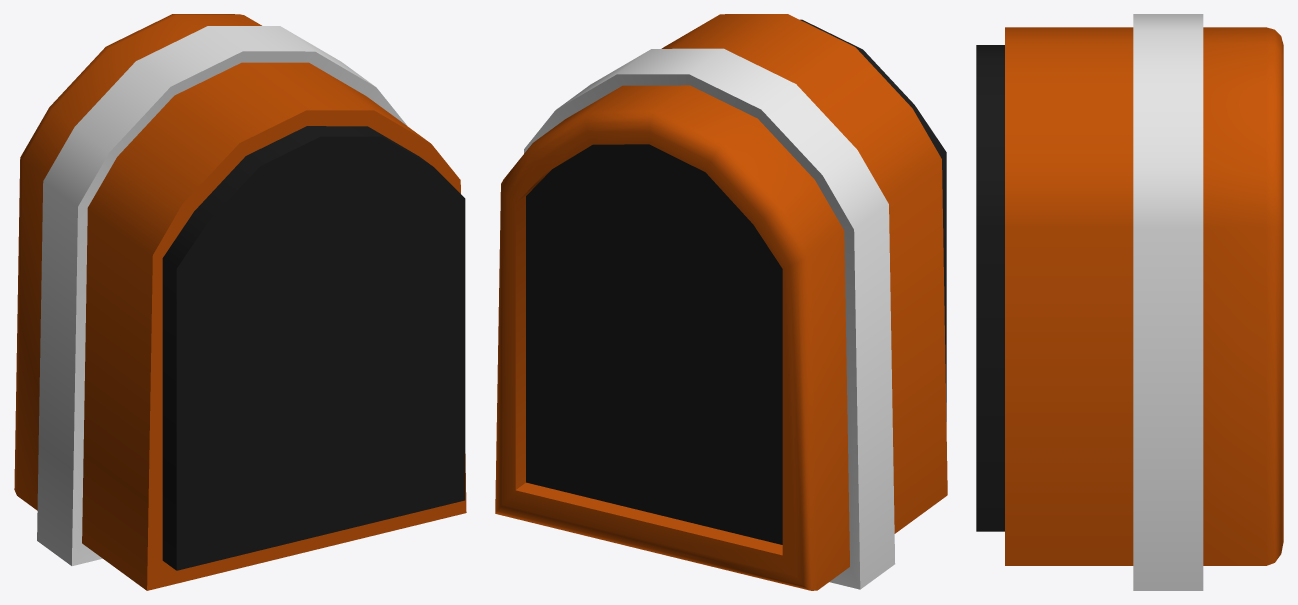
The model's file is Shelf_1.fbx.
3 views of the same model, side by side, from view 1: azimuth 30°, elevation 25°; view 2: azimuth 150°, elevation 25°; view 3: azimuth 270°, elevation 25° (orthographic).
Parts seen in each view (by area): view 1: Cube; view 2: Cube; view 3: Cube.
Part boxes in pixels (left/top/right/bottom): Cube: left=14, top=14, right=466, bottom=590; Cube: left=495, top=14, right=947, bottom=590; Cube: left=976, top=14, right=1283, bottom=590.
Size of the model in its own units: 2.14 by 2.83 by 1.66.
